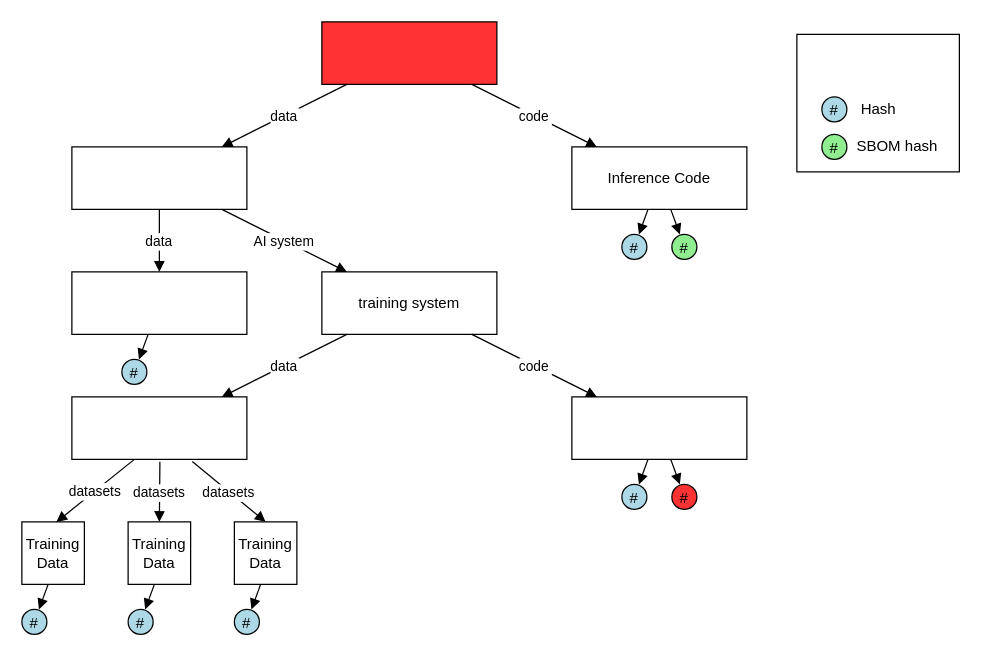
Image size: 981x656. Some labels were removed from this diagram. Here are the shapes that lost their labels. From the top down, the box of each, then its label:
(321, 21, 497, 84): Inference AI system
(796, 33, 959, 172): Key
(71, 146, 247, 209): Inference AI Config
(71, 271, 247, 334): AI Config Weights
(71, 396, 247, 459): Training Datapack
(571, 396, 747, 459): Training Code
